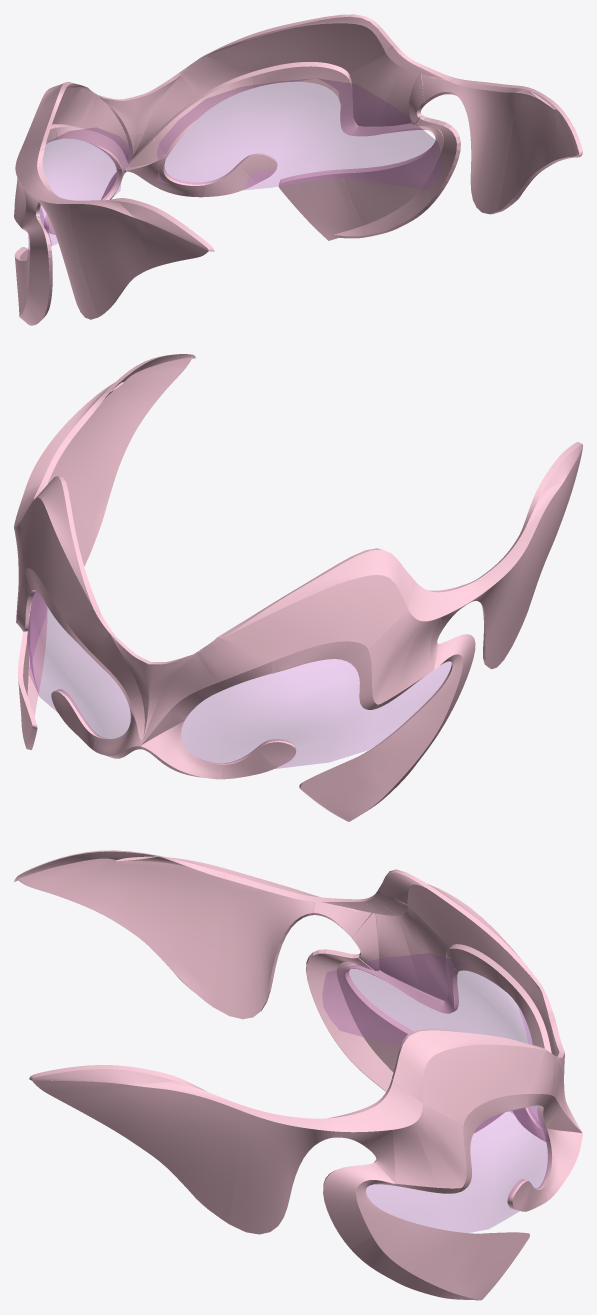
3 renders of one model, top to bottom at view 1: azimuth 30°, elevation 25°; view 2: azimuth 150°, elevation 25°; view 3: azimuth 270°, elevation 25°, orthographic. The views are drawn at different scales.
Visible parts, largest first — view 1: polySurface17.001; view 2: polySurface17.001; view 3: polySurface17.001.
Boxes of the visible parts, <box> form: polySurface17.001: <box>14,14,582,325</box>; polySurface17.001: <box>14,354,582,821</box>; polySurface17.001: <box>14,850,582,1300</box>.
Size of the model in its own units: 0.1989 by 0.1016 by 0.1954.
